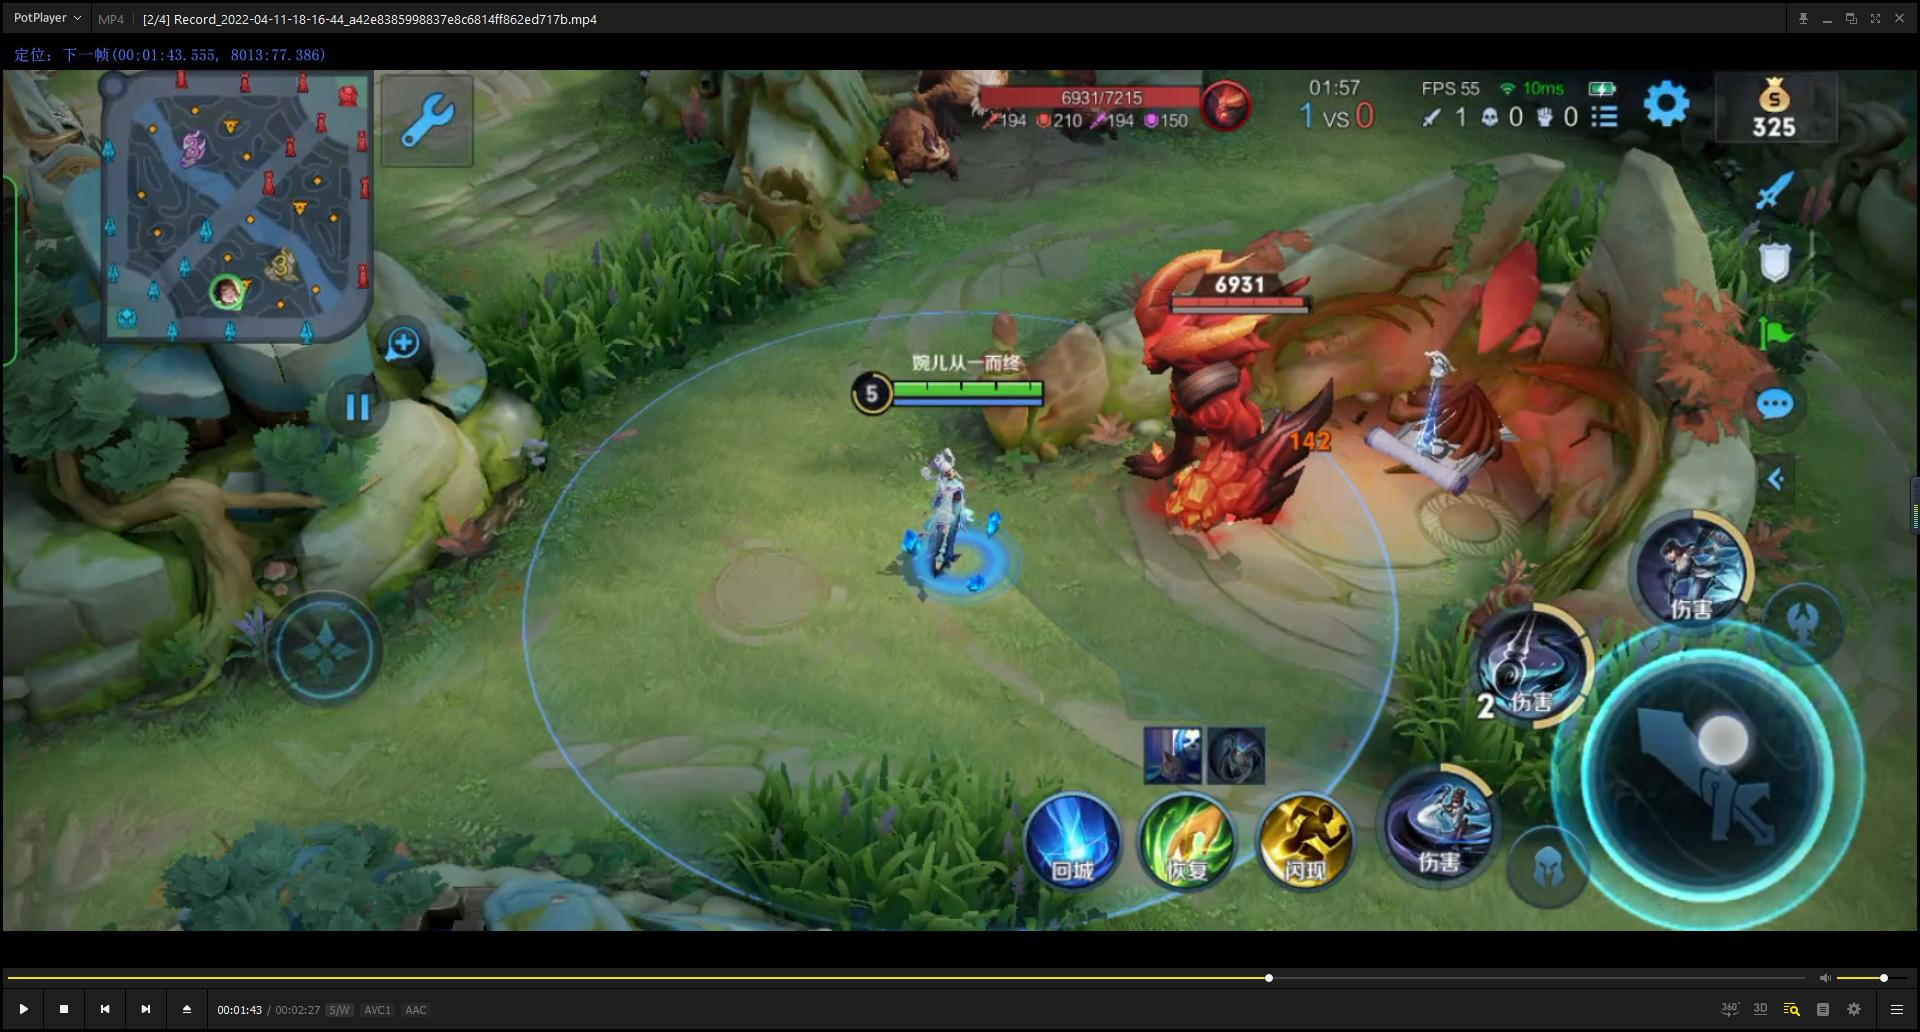Buff: (1083, 248, 1383, 554)
Hero: (895, 431, 1014, 632)
Pig: (848, 104, 975, 211), (895, 70, 1039, 144)
